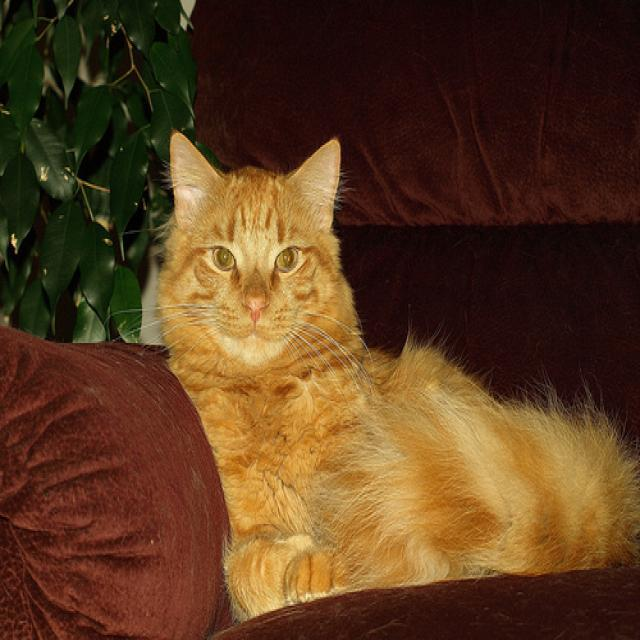Maine_Coon: (157, 125, 350, 369)
